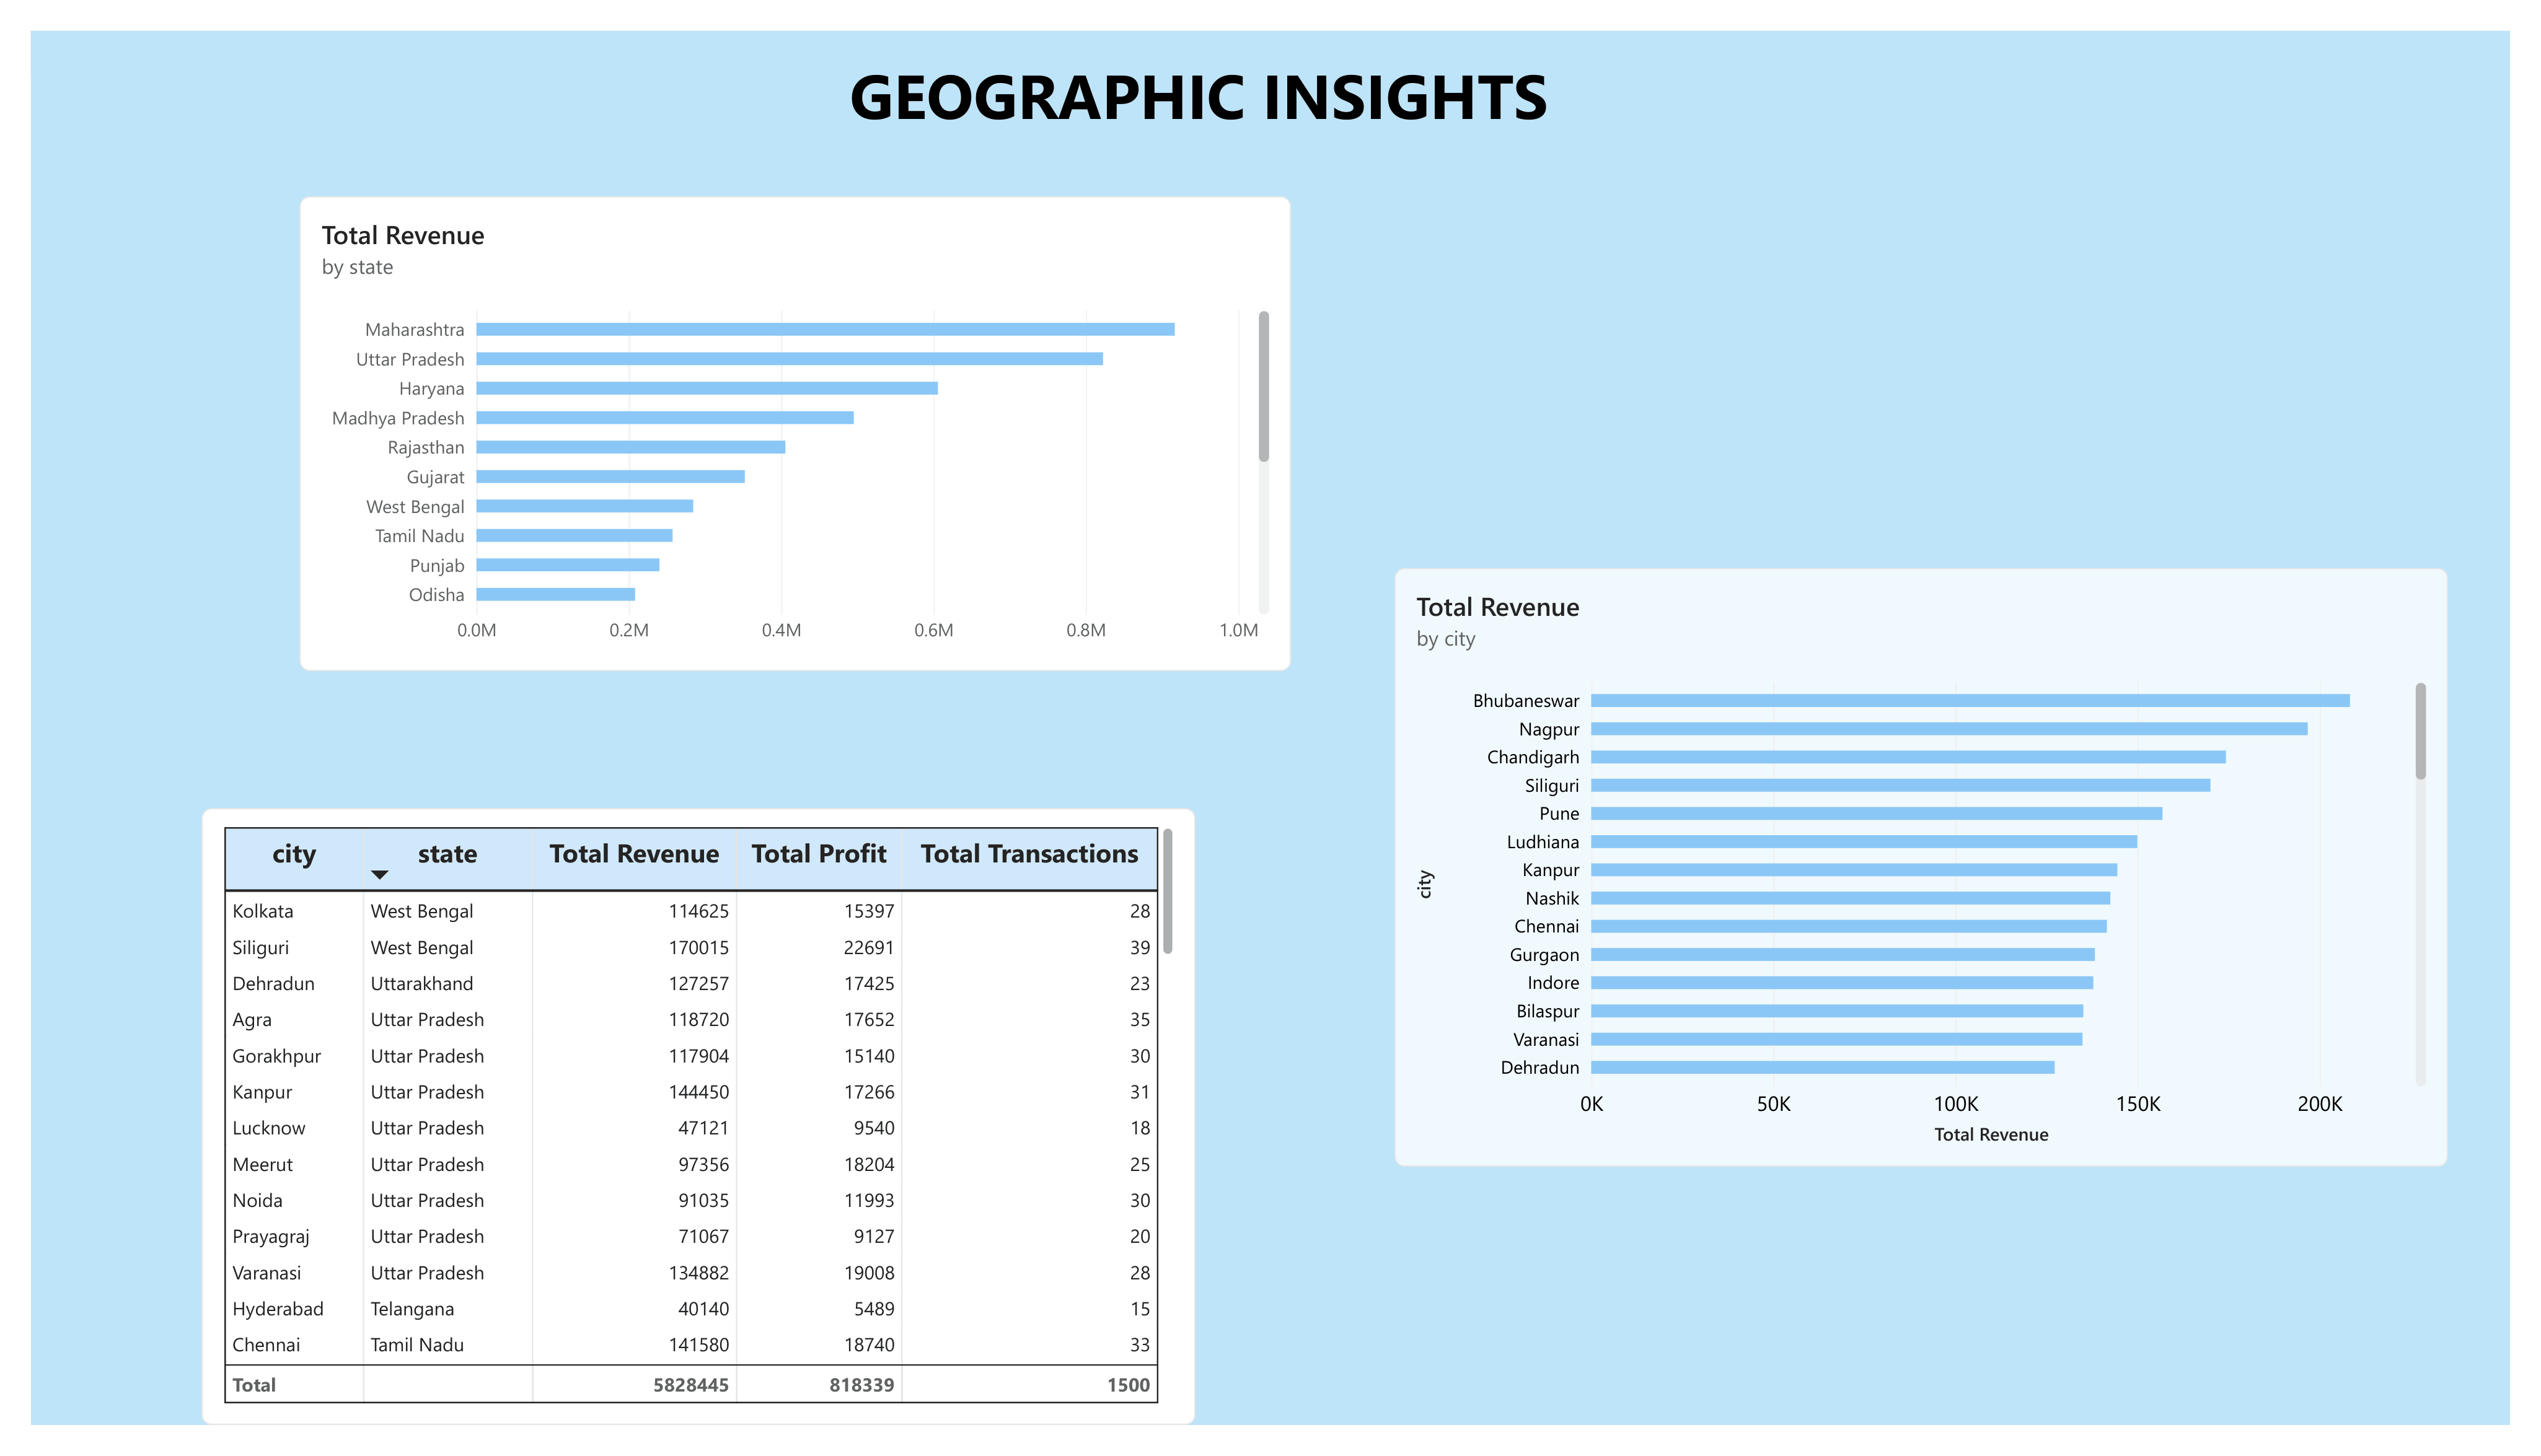

What the dashboard file says about the page in this screenshot:
{"tool":"powerbi","page":{"name":"geographic insights","canvas":[1920,1080],"ordinal":2},"visuals":[{"type":"tableEx","fields":{"Values":["Sales.city","Sales.state","MeasureTable.Total Revenue","MeasureTable.Total Profit","MeasureTable.Total Transactions"]},"box":[132,602,770,478],"z":0},{"type":"clusteredBarChart","fields":{"Category":["Sales.city"],"Y":["MeasureTable.Total Revenue"]},"box":[1056,416,816,464],"z":1000},{"type":"textbox","box":[616,602,836,478],"z":2000},{"type":"textbox","box":[634,16,650,212],"z":3000},{"type":"clusteredBarChart","fields":{"Y":["'MEASURE TABLE'.Total Revenue"],"Category":["Sales.state"]},"box":[208,128,768,368],"z":4000}]}

Visuals, with their boxes on the page's 1920x1080 design canvas (x1, y1, x2, y2). These are canvas units, not pixel positions in the 2541x1456 screenshot, which may show the page scaled, cropped or inside an application window:
tableEx - Sales.city x Sales.state: bbox=(132, 602, 902, 1080)
clusteredBarChart - Sales.city x MeasureTable.Total Revenue: bbox=(1056, 416, 1872, 880)
textbox: bbox=(616, 602, 1452, 1080)
textbox: bbox=(634, 16, 1284, 228)
clusteredBarChart - 'MEASURE TABLE'.Total Revenue x Sales.state: bbox=(208, 128, 976, 496)
